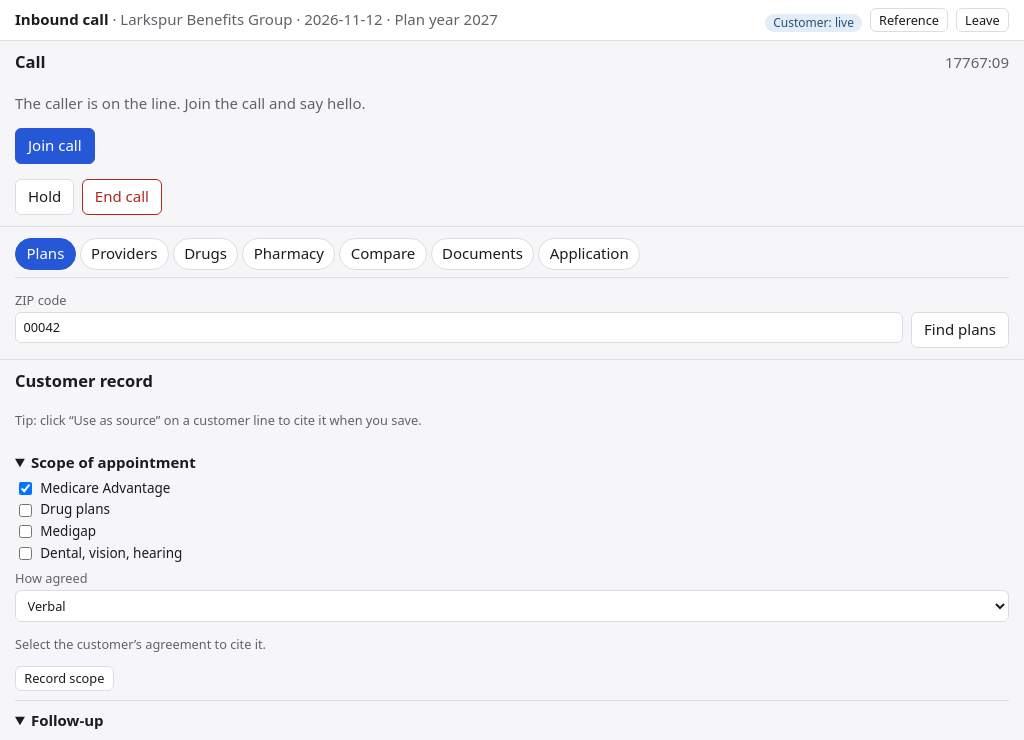
Test: a voice call › tells the learner when the microphone is blocked
The image size is (1024, 740).
Click the button "Join call": (55, 146) top-left (15, 128), bottom-right (95, 164)
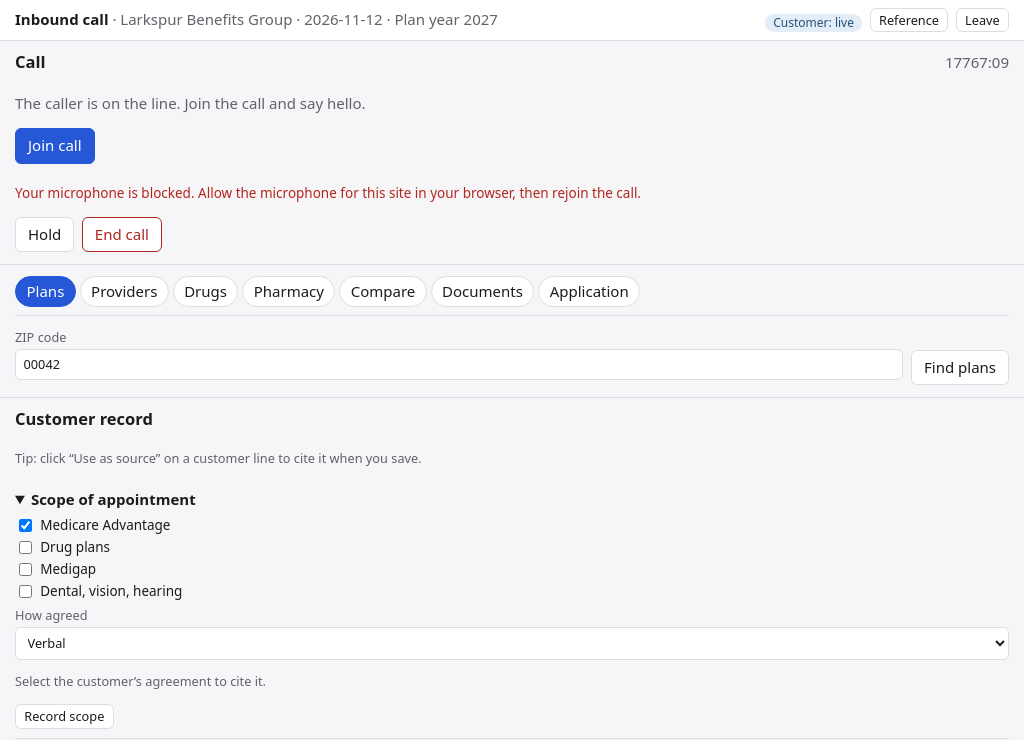
Result: the message shows "microphone is blocked" at top-left (15, 184), bottom-right (641, 202)
